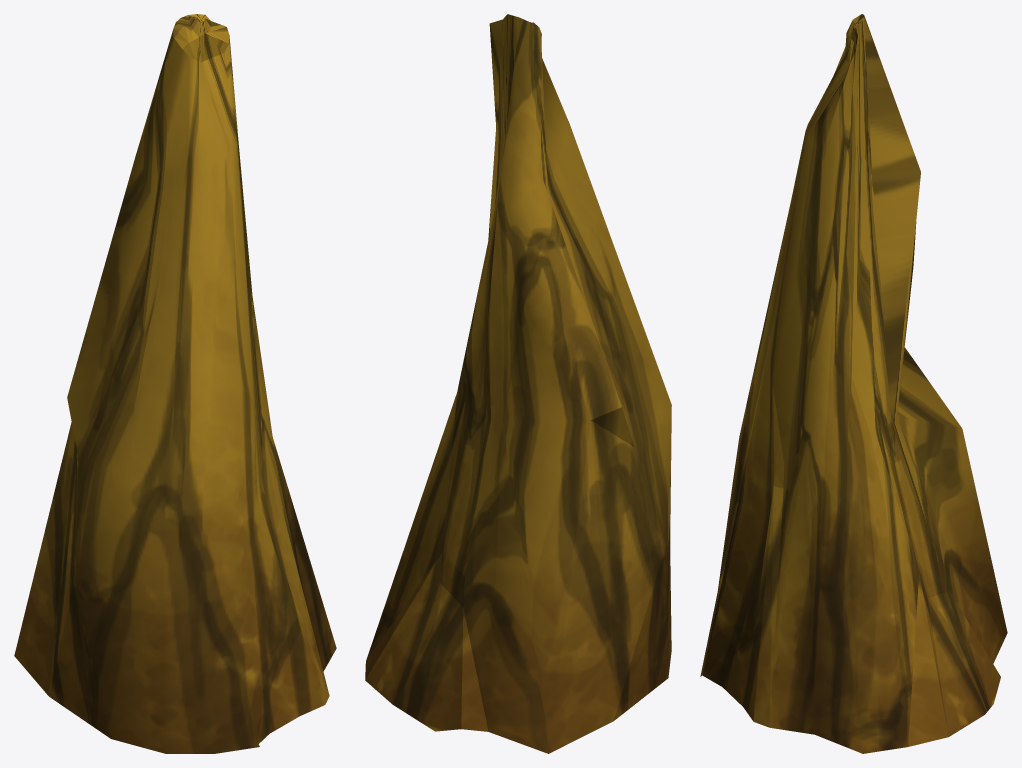
The model's file is 1by1 Piece.FBX.
3 views of the same model, side by side, from view 1: azimuth 30°, elevation 25°; view 2: azimuth 150°, elevation 25°; view 3: azimuth 270°, elevation 25° (orthographic).
Visible parts, largest first — view 1: 1by1 Piece; view 2: 1by1 Piece; view 3: 1by1 Piece.
Part boxes in pixels (x1,y1,x2,y2): 1by1 Piece: [14, 14, 336, 753]; 1by1 Piece: [365, 14, 671, 753]; 1by1 Piece: [700, 14, 1007, 753].
Size of the model in its own units: 91.82 by 215 by 88.27.
